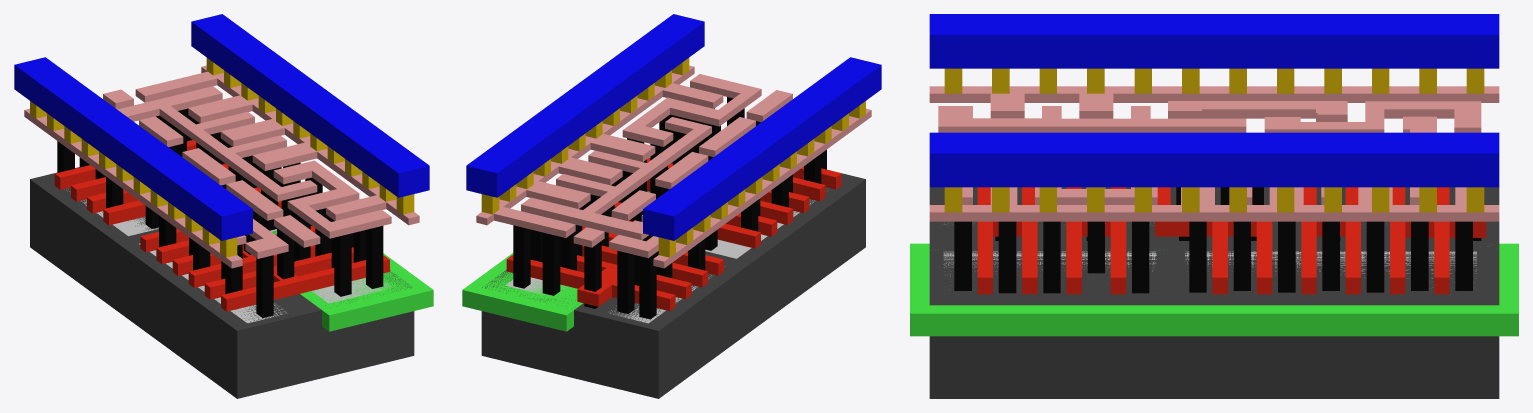
File: sky130_fd_sc_hd__o2111ai_2.obj
3 renders of one model, left to right at view 1: azimuth 30°, elevation 25°; view 2: azimuth 150°, elevation 25°; view 3: azimuth 270°, elevation 25°, orthographic. The views are drawn at different scales.
Parts seen in each view (by area): view 1: subs, metal1, li, licon, poly, mcon, nwell, diff, tap; view 2: subs, metal1, li, licon, poly, mcon, nwell, diff; view 3: metal1, subs, li, nwell, licon, poly, mcon, tap.
Part boxes in pixels (x1,y1,x2,y2): subs: (30,167,414,398); metal1: (14,14,429,240); li: (24,65,419,268); licon: (57,108,383,317); poly: (54,140,389,311); mcon: (30,58,414,257); nwell: (271,229,433,331); diff: (66,189,286,323); tap: (270,229,392,303); subs: (481,173,865,398); metal1: (466,14,881,240); li: (476,65,871,268); licon: (513,97,826,319); poly: (506,158,841,311); mcon: (481,58,865,257); nwell: (462,157,650,331); diff: (609,200,814,323); metal1: (929,14,1499,187); subs: (929,187,1499,398); li: (929,86,1499,221); nwell: (910,243,1518,336); licon: (954,187,1481,293); poly: (977,187,1486,294); mcon: (944,68,1484,212); tap: (943,251,1476,278).
Bounding box in the file's own units: 3.2 × 2.74 × 5.9.
